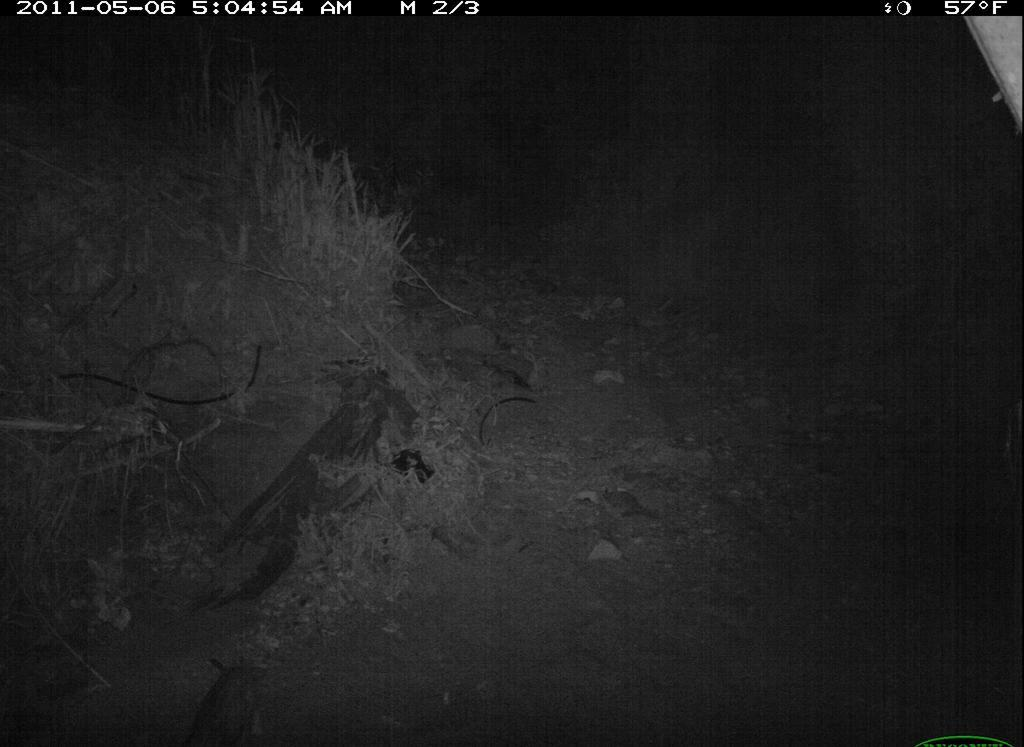bobcat: (179, 655, 271, 747)
